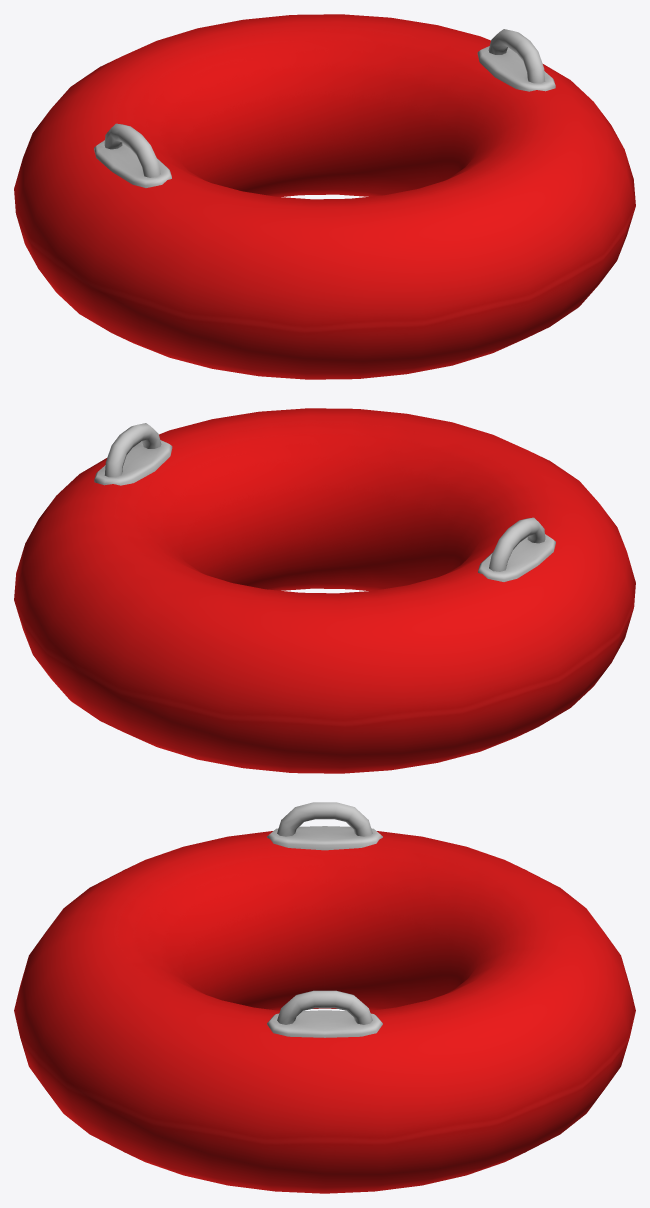
File: beach_assets_buoy.fbx
3 views of the same model, one above another, from view 1: azimuth 30°, elevation 25°; view 2: azimuth 150°, elevation 25°; view 3: azimuth 270°, elevation 25° (orthographic).
Parts seen in each view (by area): view 1: beach_assets_buoy; view 2: beach_assets_buoy; view 3: beach_assets_buoy.
Boxes of the visible parts, bbox=[...] form: beach_assets_buoy: bbox=[14, 14, 635, 379]; beach_assets_buoy: bbox=[14, 408, 635, 773]; beach_assets_buoy: bbox=[14, 802, 635, 1193].
Size of the model in its own units: 100 by 34.76 by 100.
Materials: 1 (1 with a texture image).
